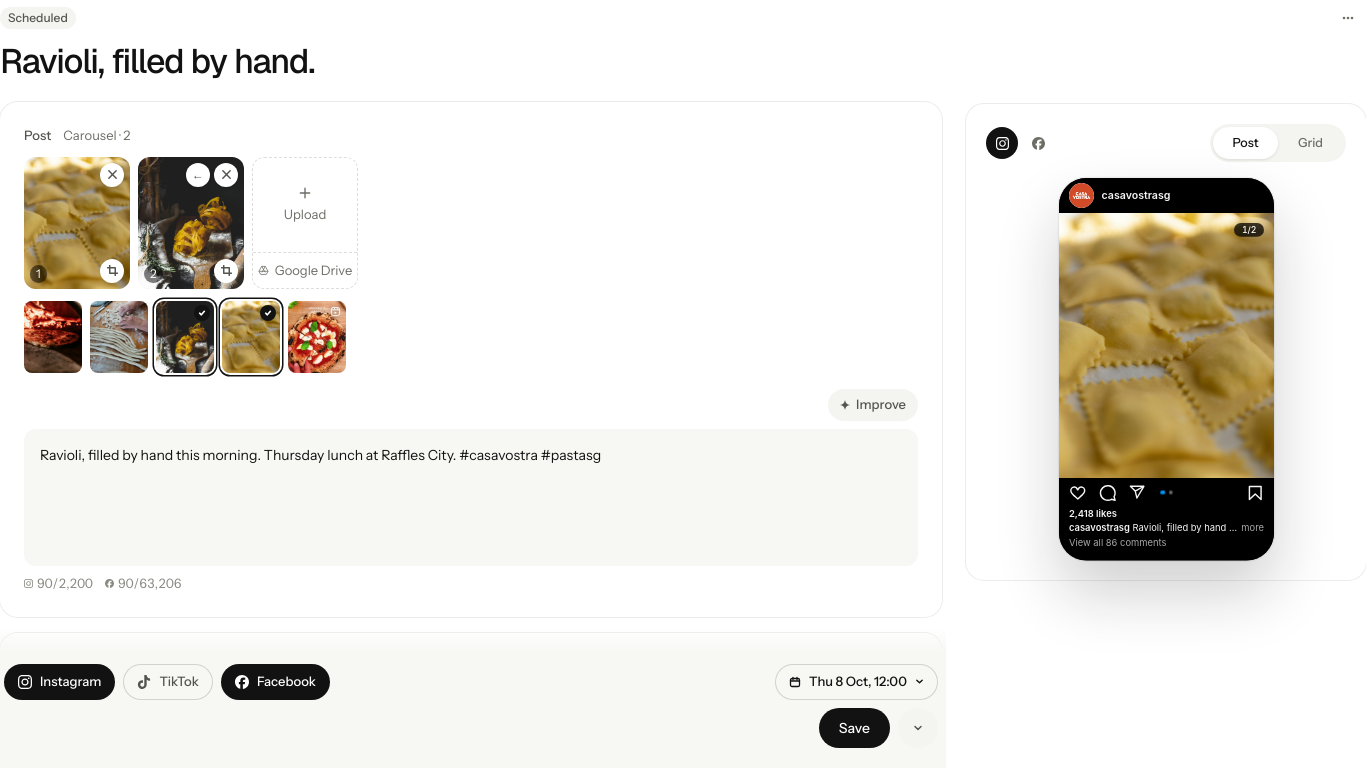
Test: a scheduled post › has one save action: Save while its time stands, Reschedule once the day changes
Expected: the button "Reschedule" is not shown
Step 1. Click the button "Thu 8 Oct, 12:00" → (856, 682), box [775,664,938,700]
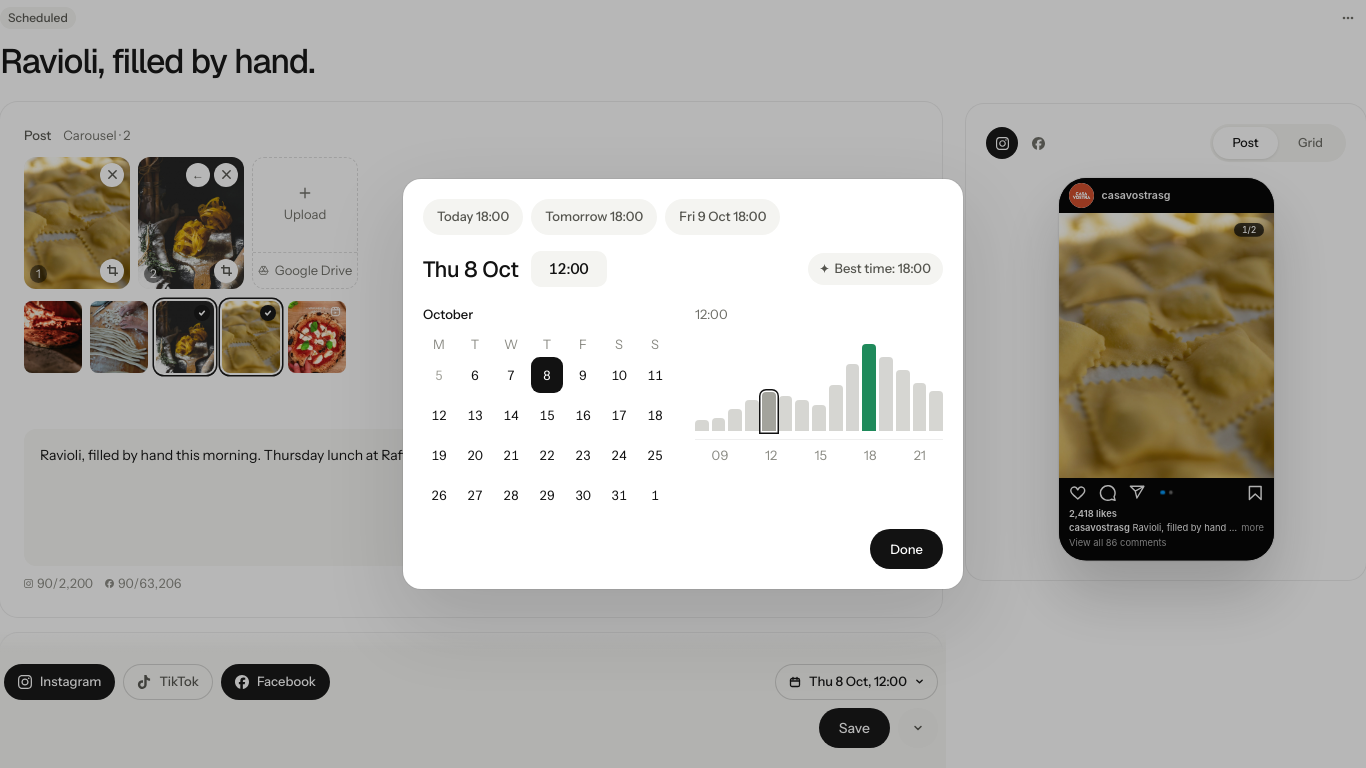
Step 2. Click the button "Tomorrow 18:00" → (594, 217), box [531,199,657,235]
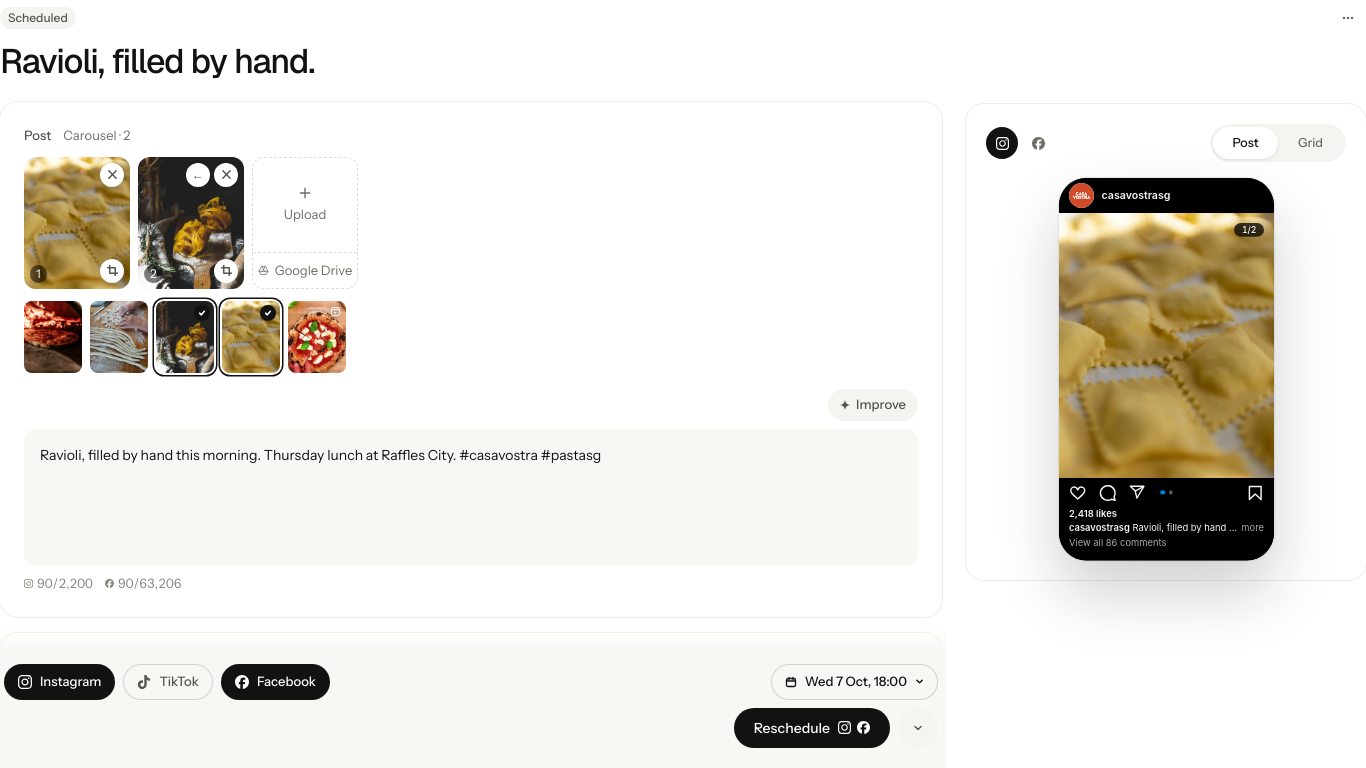
Result: the button "Save" is gone
